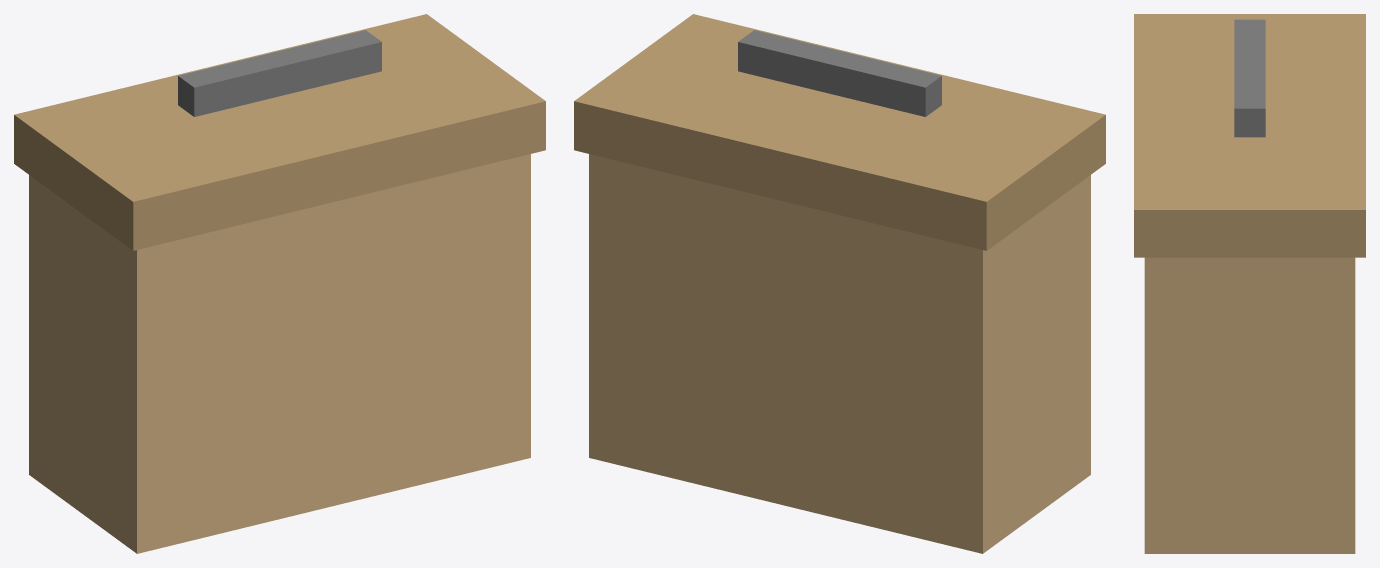
The model's file is creel.glb.
The picture shows the model from 3 angles, left to right: view 1: azimuth 30°, elevation 25°; view 2: azimuth 150°, elevation 25°; view 3: azimuth 270°, elevation 25°; orthographic projection. The views are drawn at different scales.
Parts seen in each view (by area): view 1: creel; view 2: creel; view 3: creel.
Boxes of the visible parts, bbox=[...] form: creel: bbox=[14, 14, 545, 553]; creel: bbox=[574, 14, 1105, 553]; creel: bbox=[1134, 14, 1365, 553].
Size of the model in its own units: 0.44 by 0.415 by 0.22.
